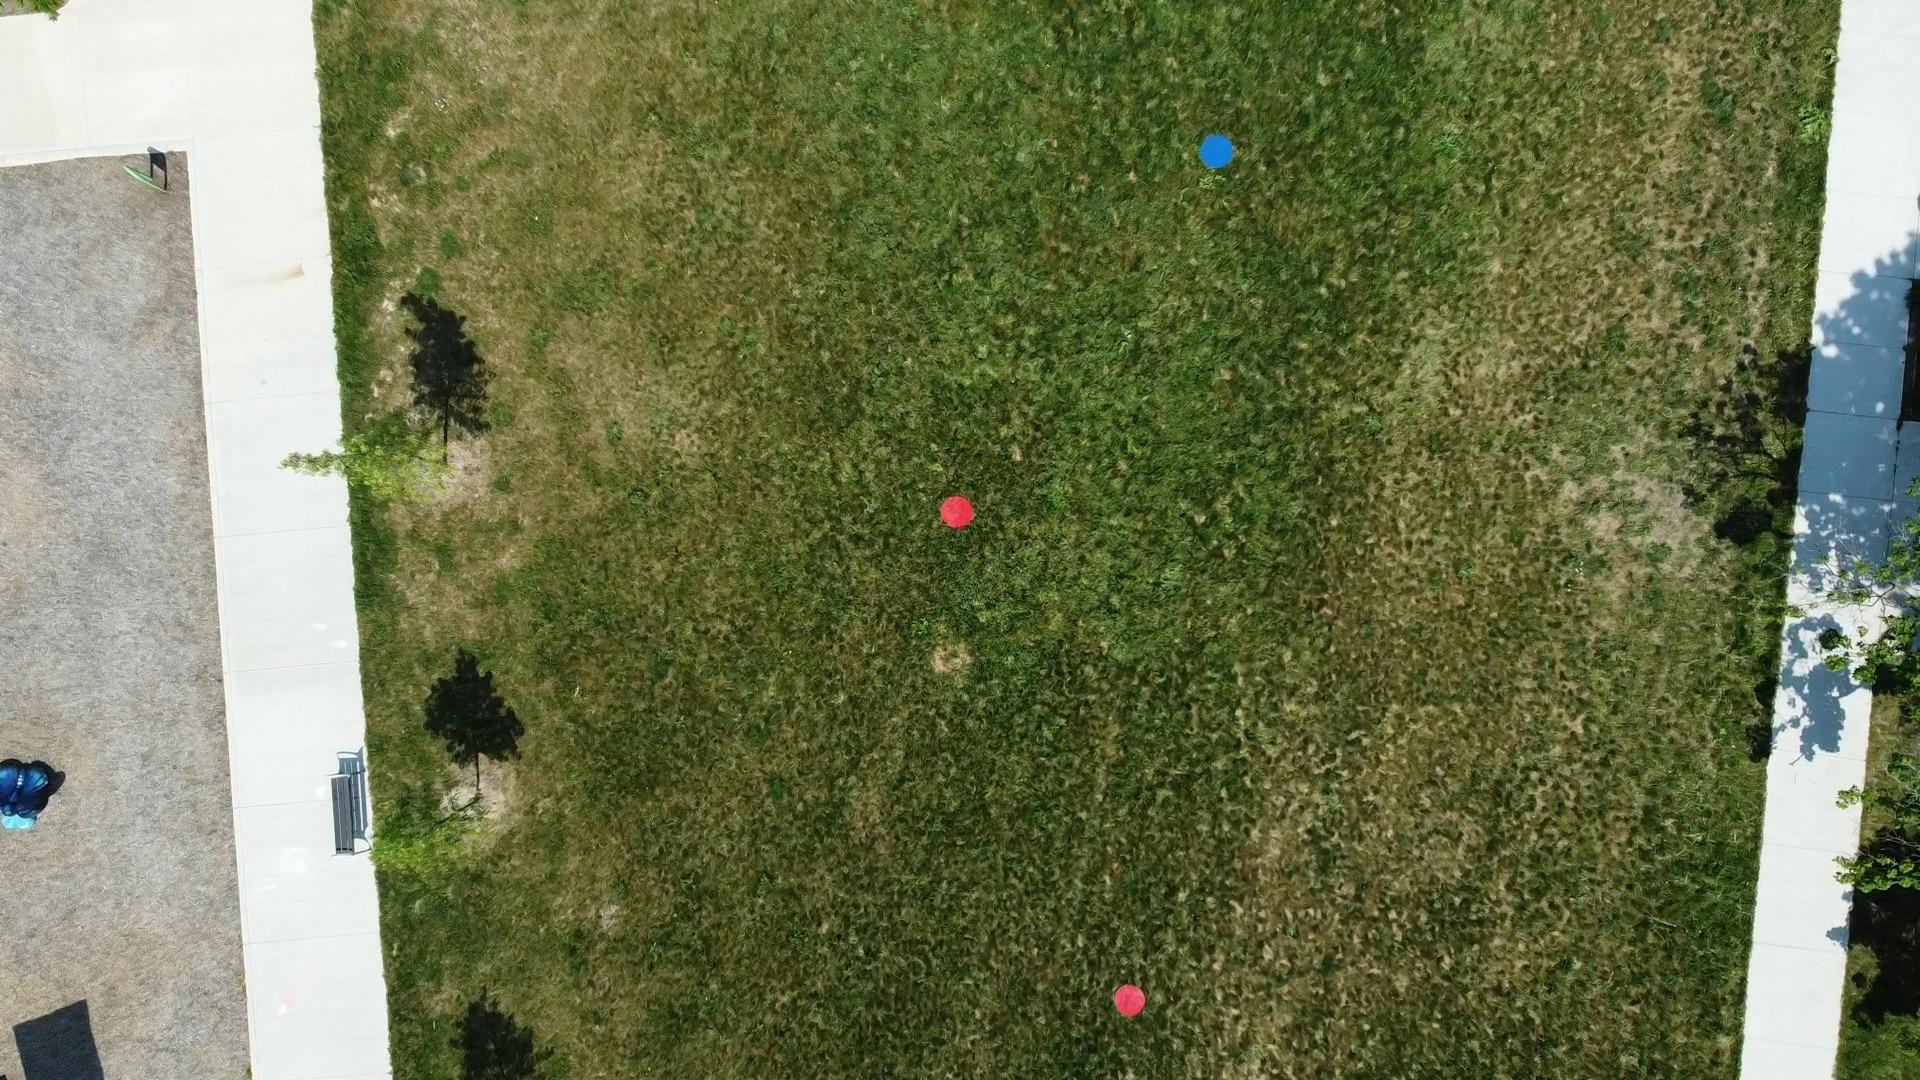Blue: (1197, 135, 1234, 169)
Red: (940, 495, 976, 530), (1113, 982, 1147, 1018)
